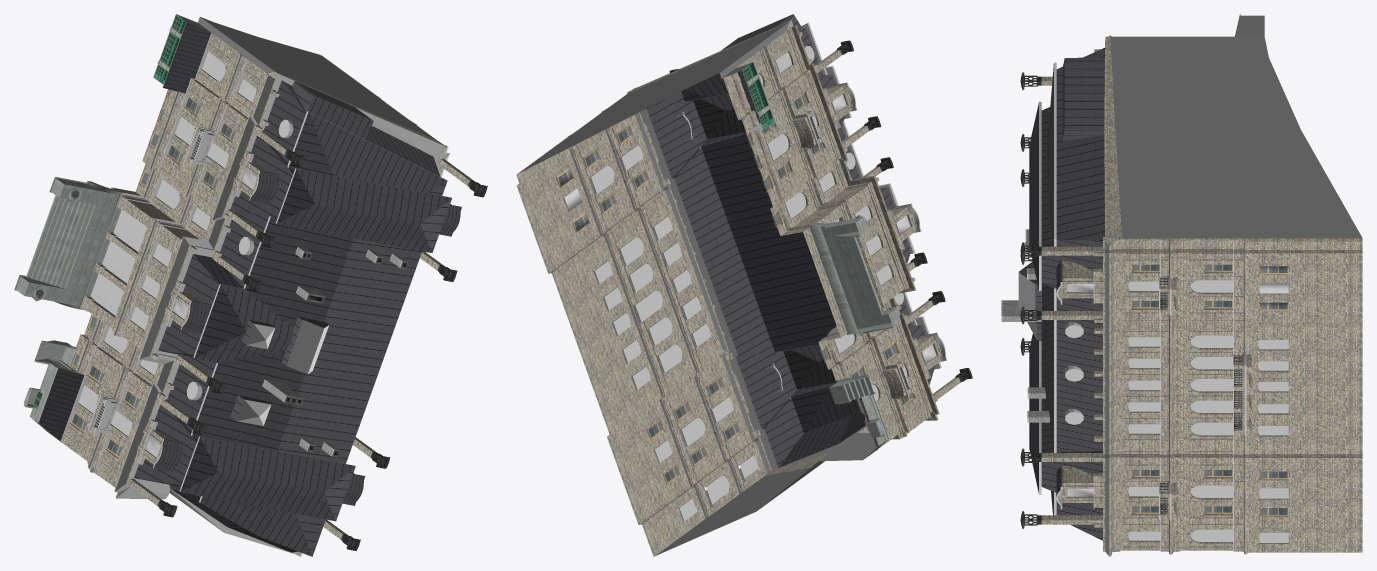
Rendered from Kohtu_6_1.obj.
3 views of the same model, side by side, from view 1: azimuth 30°, elevation 25°; view 2: azimuth 150°, elevation 25°; view 3: azimuth 270°, elevation 25° (orthographic). The views are drawn at different scales.
Visible parts, largest first — view 1: Kohtu_6_1; view 2: Kohtu_6_1; view 3: Kohtu_6_1.
Part boxes in pixels (x1,y1,x2,y2): Kohtu_6_1: (14,14,487,556); Kohtu_6_1: (516,14,972,556); Kohtu_6_1: (1001,14,1362,556).
Bounding box in the file's own units: 30.81 × 40.86 × 25.89.
